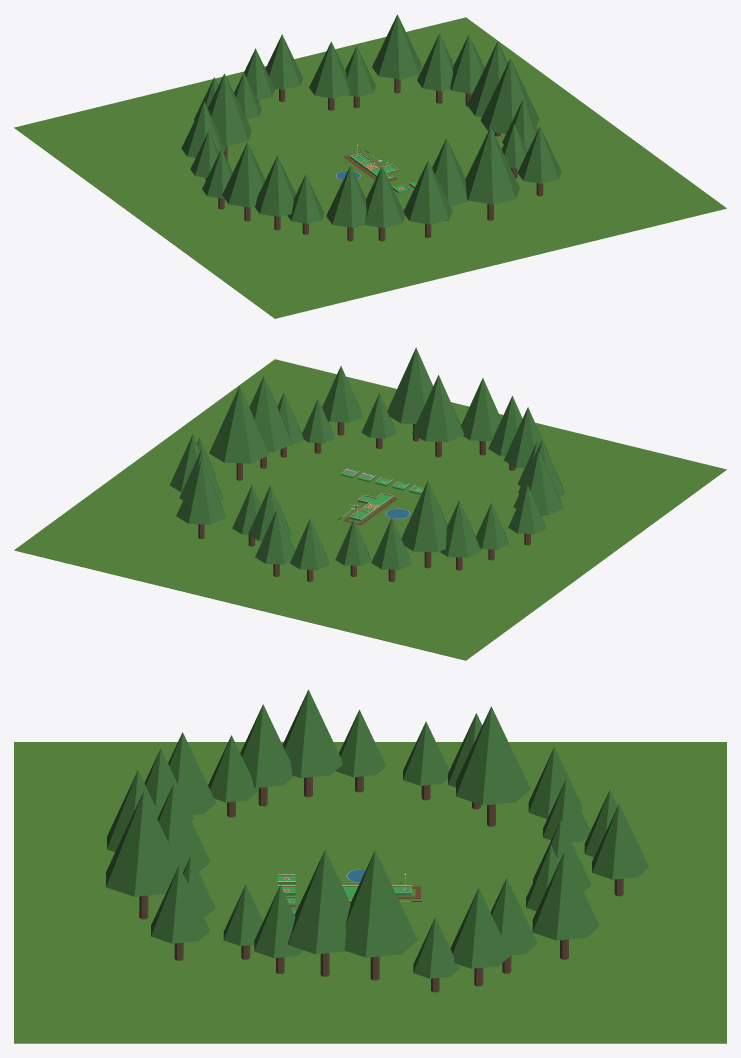
Rendered from test_level.glb.
3 views of the same model, one above another, from view 1: azimuth 30°, elevation 25°; view 2: azimuth 150°, elevation 25°; view 3: azimuth 270°, elevation 25° (orthographic). The views are drawn at different scales.
Parts seen in each view (by area): view 1: Lawn, Tree_Crown.022, Tree_Crown.027, Tree_Crown.004, Tree_Crown.020, Tree_Crown.011, Tree_Crown.015, Tree_Crown.018, Tree_Crown.019, Tree_Crown.016, Tree_Crown.024, Tree_Crown.006 (+14 smaller); view 2: Lawn, Tree_Crown, Tree_Crown.011, Tree_Crown.022, Tree_Crown.021, Tree_Crown.004, Tree_Crown.027, Tree_Crown.020, Tree_Crown.015, Tree_Crown.024, Tree_Crown.012, Tree_Crown.007 (+15 smaller); view 3: Lawn, Tree_Crown, Tree_Crown.022, Tree_Crown.011, Tree_Crown.027, Tree_Crown.004, Tree_Crown.015, Tree_Crown.002, Tree_Crown.024, Tree_Crown.016, Tree_Crown.007, Tree_Crown.021 (+17 smaller).
Part boxes in pixels (<box>): Lawn: <box>14,17,726,318</box>; Tree_Crown.022: <box>465,127,519,204</box>; Tree_Crown.027: <box>480,58,539,133</box>; Tree_Crown.004: <box>372,14,421,79</box>; Tree_Crown.020: <box>404,160,452,224</box>; Tree_Crown.011: <box>207,73,251,146</box>; Tree_Crown.015: <box>222,142,265,207</box>; Tree_Crown.018: <box>326,166,366,227</box>; Tree_Crown.019: <box>365,166,405,227</box>; Tree_Crown.016: <box>254,155,295,216</box>; Tree_Crown.024: <box>517,126,561,183</box>; Tree_Crown.006: <box>309,41,350,98</box>; Lawn: <box>14,359,726,660</box>; Tree_Crown: <box>209,386,269,463</box>; Tree_Crown.011: <box>401,480,447,552</box>; Tree_Crown.022: <box>387,347,433,423</box>; Tree_Crown.021: <box>412,375,464,442</box>; Tree_Crown.004: <box>176,460,225,524</box>; Tree_Crown.027: <box>249,376,292,451</box>; Tree_Crown.020: <box>461,378,501,441</box>; Tree_Crown.015: <box>513,451,563,515</box>; Tree_Crown.024: <box>322,366,362,422</box>; Tree_Crown.012: <box>440,500,480,557</box>; Tree_Crown.007: <box>255,509,294,564</box>; Lawn: <box>14,742,726,1043</box>; Tree_Crown: <box>344,850,417,957</box>; Tree_Crown.022: <box>106,791,178,896</box>; Tree_Crown.011: <box>456,706,530,805</box>; Tree_Crown.027: <box>287,850,350,954</box>; Tree_Crown.004: <box>532,852,599,940</box>; Tree_Crown.015: <box>282,689,342,778</box>; Tree_Crown.002: <box>450,888,510,968</box>; Tree_Crown.024: <box>151,865,209,943</box>; Tree_Crown.016: <box>240,704,293,787</box>; Tree_Crown.007: <box>592,804,648,879</box>; Tree_Crown.021: <box>157,784,210,872</box>.
Bounding box in the file's own units: 400 × 79.83 × 400.
